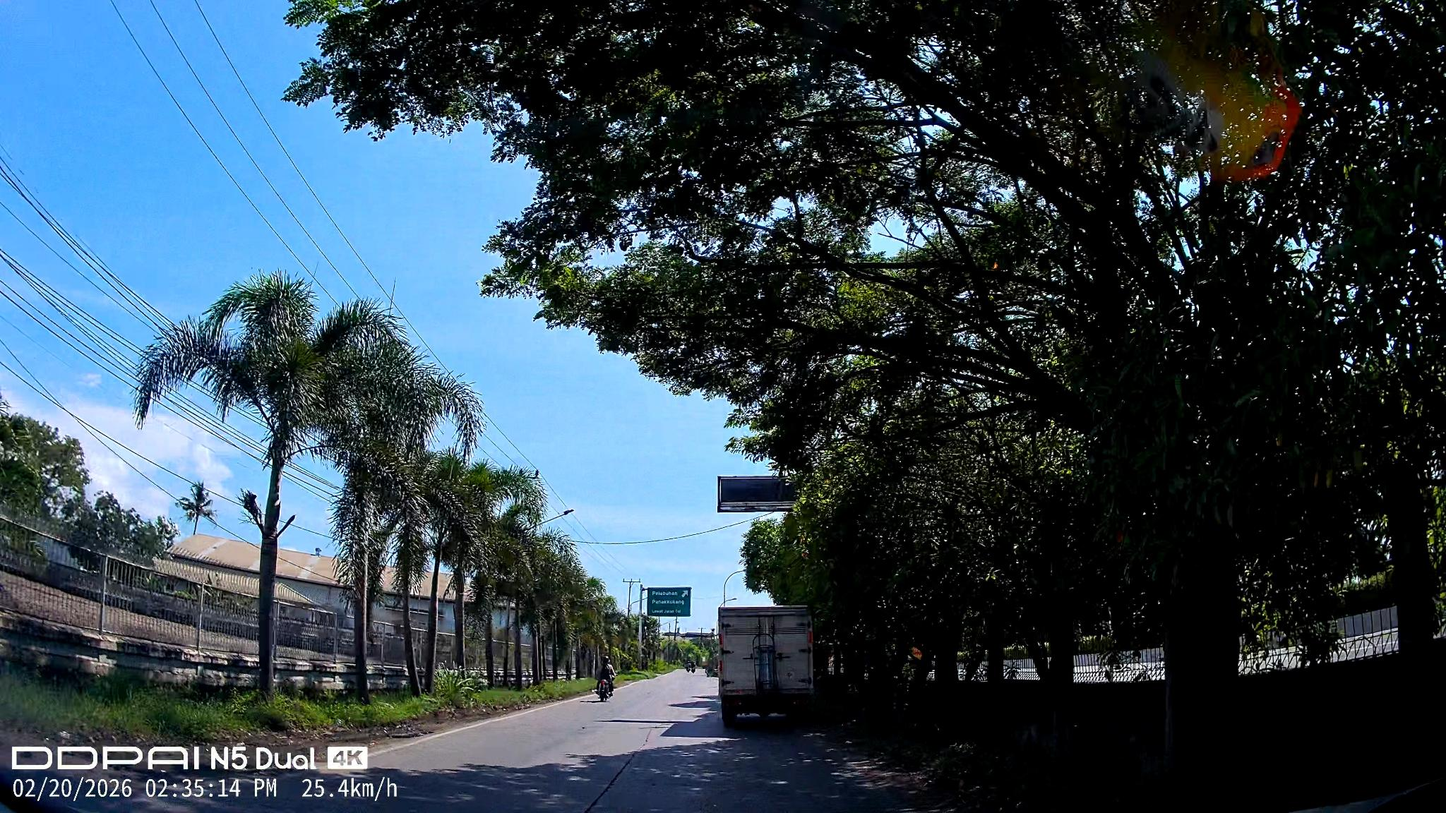rambu_teks: (647, 587, 692, 617)
